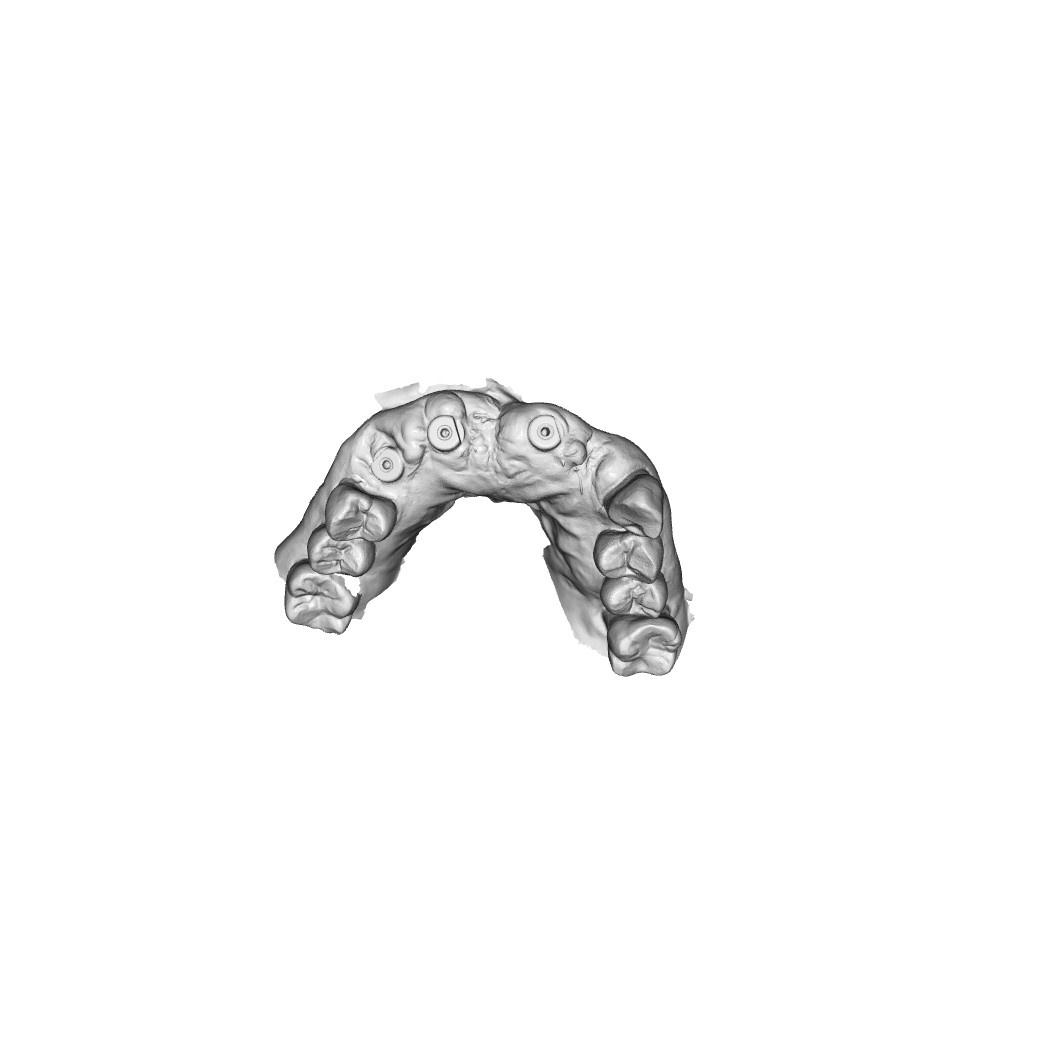canine: (609, 473, 666, 534)
implant: (422, 411, 464, 454), (524, 410, 564, 452), (370, 442, 407, 484)
molar: (286, 567, 363, 636), (610, 615, 682, 675)
premolar: (592, 527, 664, 582), (304, 528, 379, 578), (596, 575, 673, 622), (328, 488, 393, 543)
